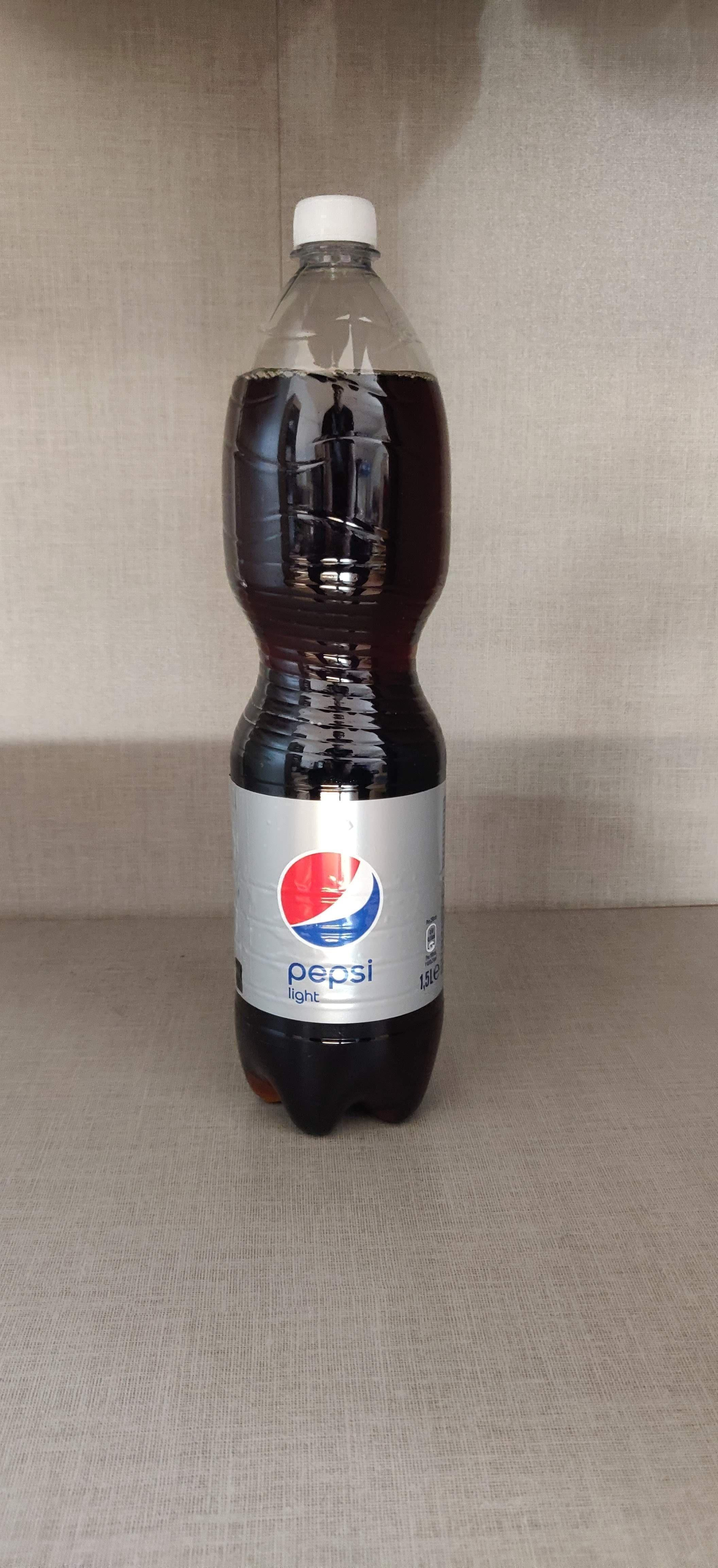bottle-plastic: (214, 193, 462, 1136)
